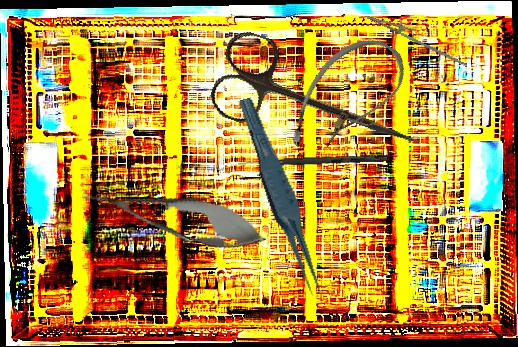Cannula: (277, 21, 416, 176)
Hook Surgical: (237, 153, 388, 169)
Iris Scissors: (205, 26, 431, 179)
Micro Scissor: (76, 171, 272, 262)
Needle Holder: (362, 7, 473, 67)
Tissue Forceps: (236, 92, 326, 306)
